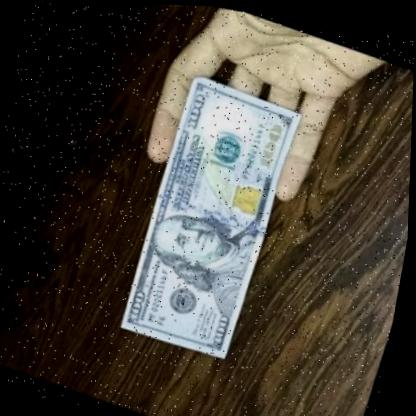one_hundred-front: (102, 58, 320, 370)
